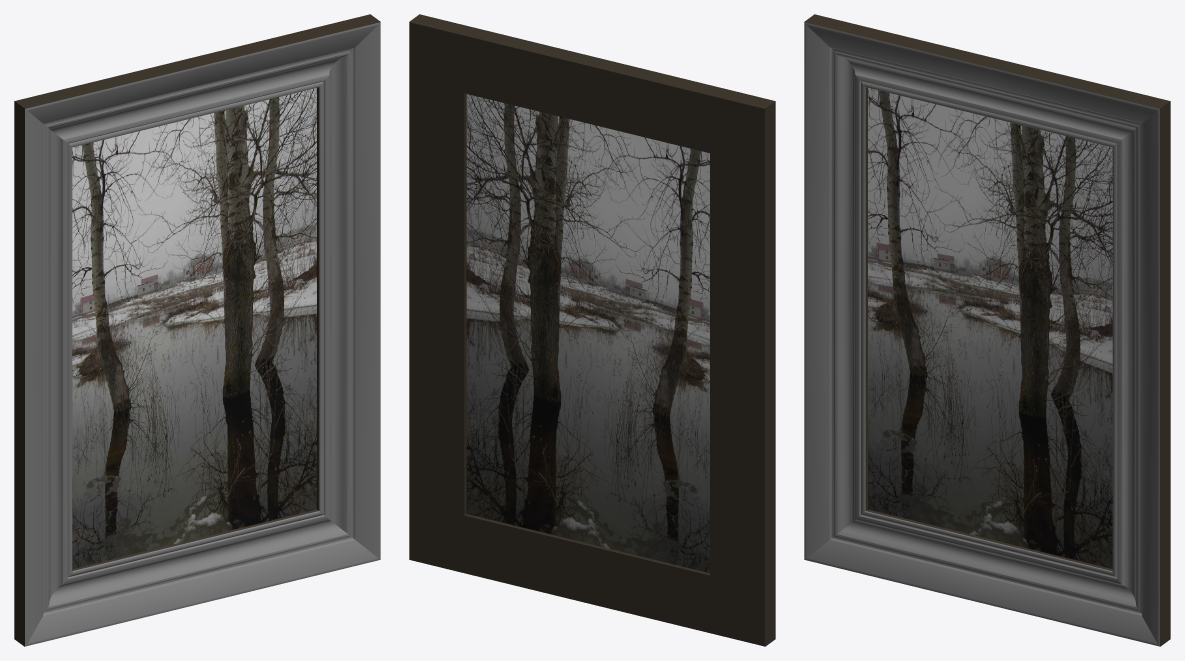
Rendered from 装饰画.FBX.
3 renders of one model, left to right at view 1: azimuth 30°, elevation 25°; view 2: azimuth 150°, elevation 25°; view 3: azimuth 330°, elevation 25°, orthographic.
Visible parts, largest first — view 1: 3ddd.ru; view 2: 3ddd.ru; view 3: 3ddd.ru.
Boxes of the visible parts, x1=… form: 3ddd.ru: x1=14, y1=14, x2=380, y2=646; 3ddd.ru: x1=409, y1=14, x2=775, y2=646; 3ddd.ru: x1=804, y1=14, x2=1170, y2=646.
Bounding box in the file's own units: 809 × 1169 × 42.56.
Materials: 3 (1 with a texture image).
